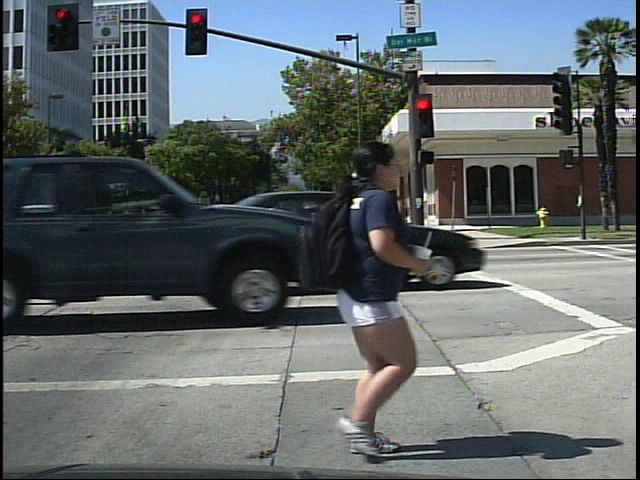person: (293, 133, 432, 461)
